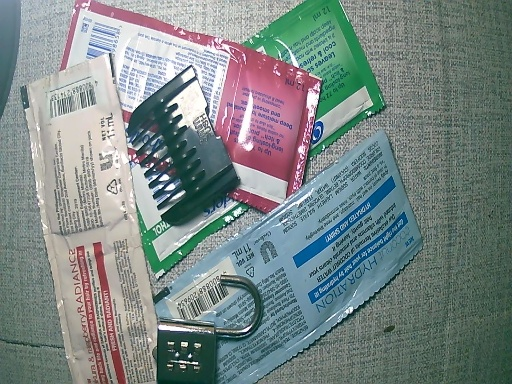metal: (154, 274, 267, 384)
plastic: (41, 1, 394, 130), (267, 130, 422, 384), (24, 44, 137, 384), (233, 132, 301, 217)
trash: (129, 65, 238, 226)
